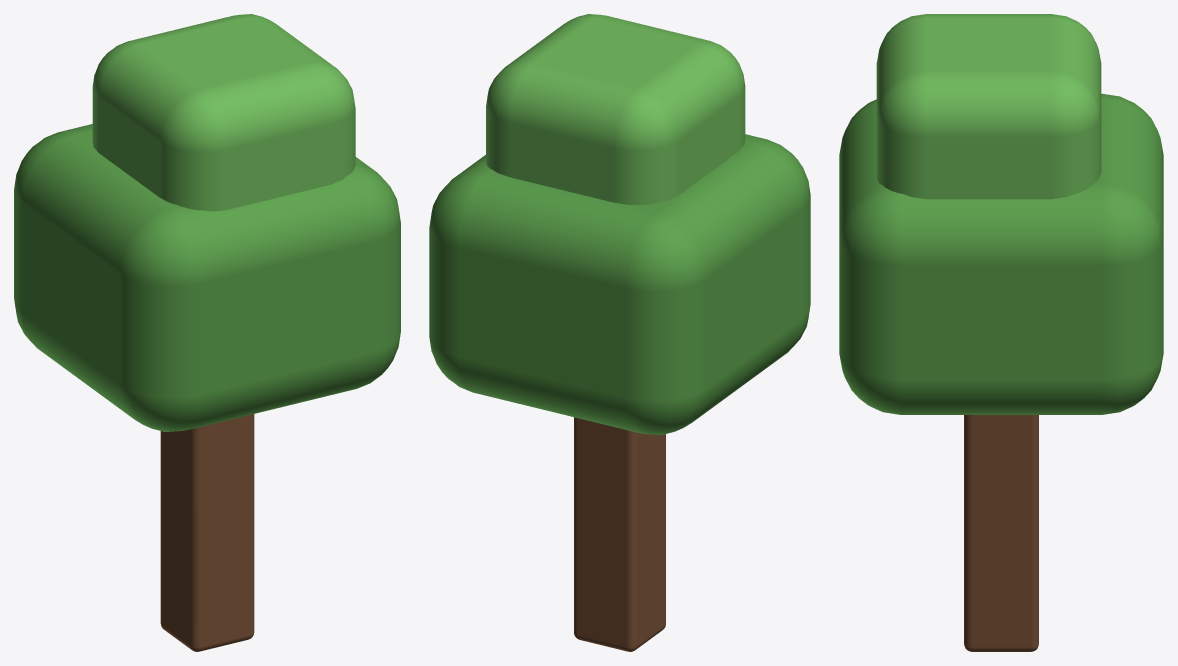
The model's file is arbre.glb.
3 views of the same model, side by side, from view 1: azimuth 30°, elevation 25°; view 2: azimuth 150°, elevation 25°; view 3: azimuth 270°, elevation 25° (orthographic). The views are drawn at different scales.
Size of the model in its own units: 3.12 by 6.36 by 3.12.
